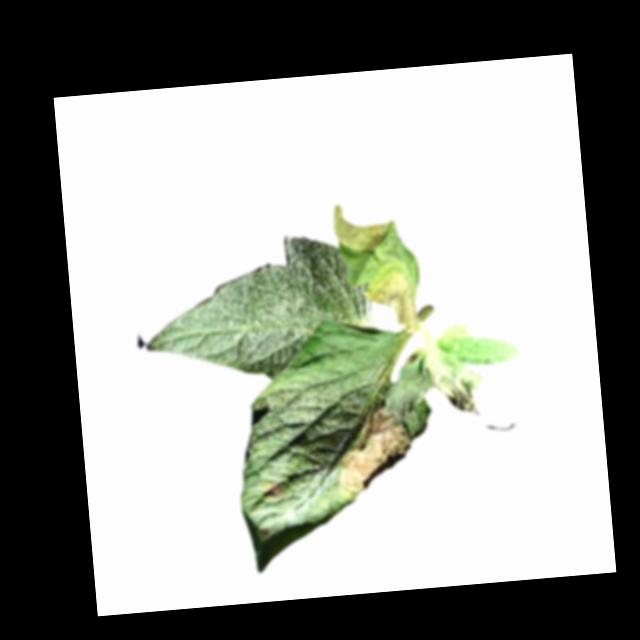Late_blight: (378, 341, 485, 423), (332, 397, 414, 494), (330, 199, 403, 268), (364, 261, 422, 339), (262, 477, 291, 501)
healthy: (139, 230, 378, 391)
